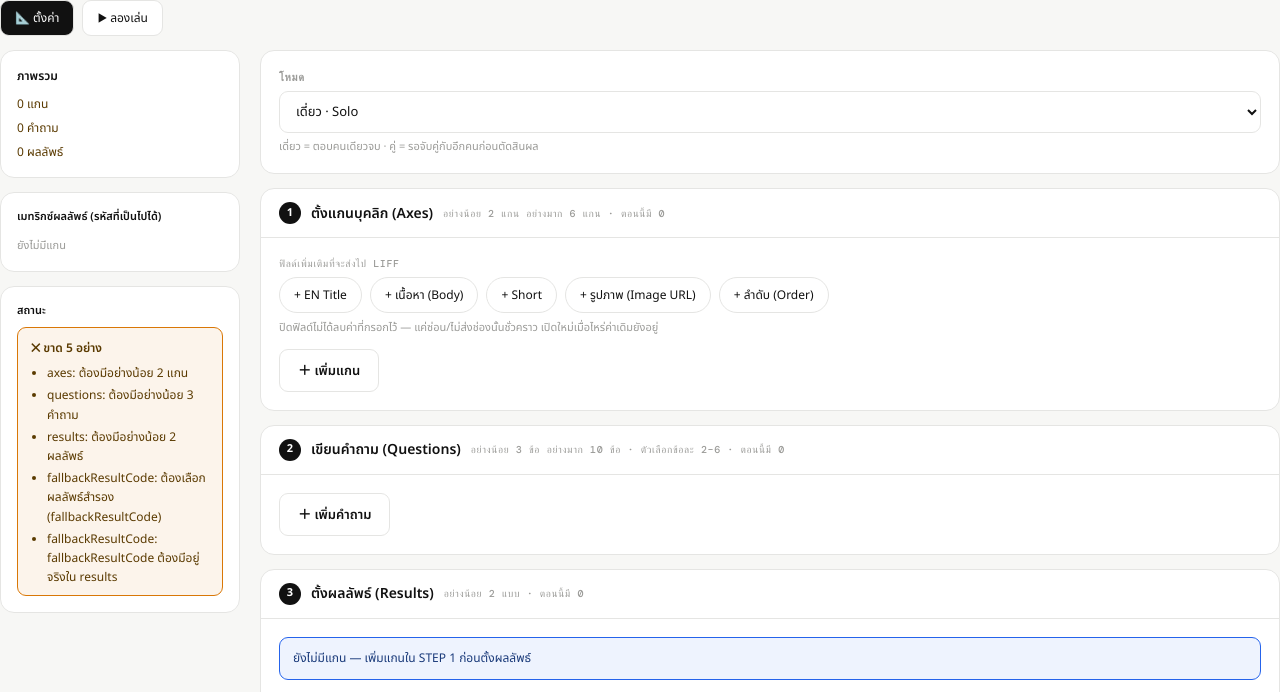
Test: โหมด ลองเล่น (Play) — ยังเป็น stub › สลับไปโหมดลองเล่น ซ่อนฟอร์มตั้งค่า และบอกตรงๆ ว่ายังไม่พร้อมใช้งาน
What coordinates should you click on to do the following:
click the button "▶ ลองเล่น"
I would click on:
 (123, 18)
Its box is [82,0,163,36].
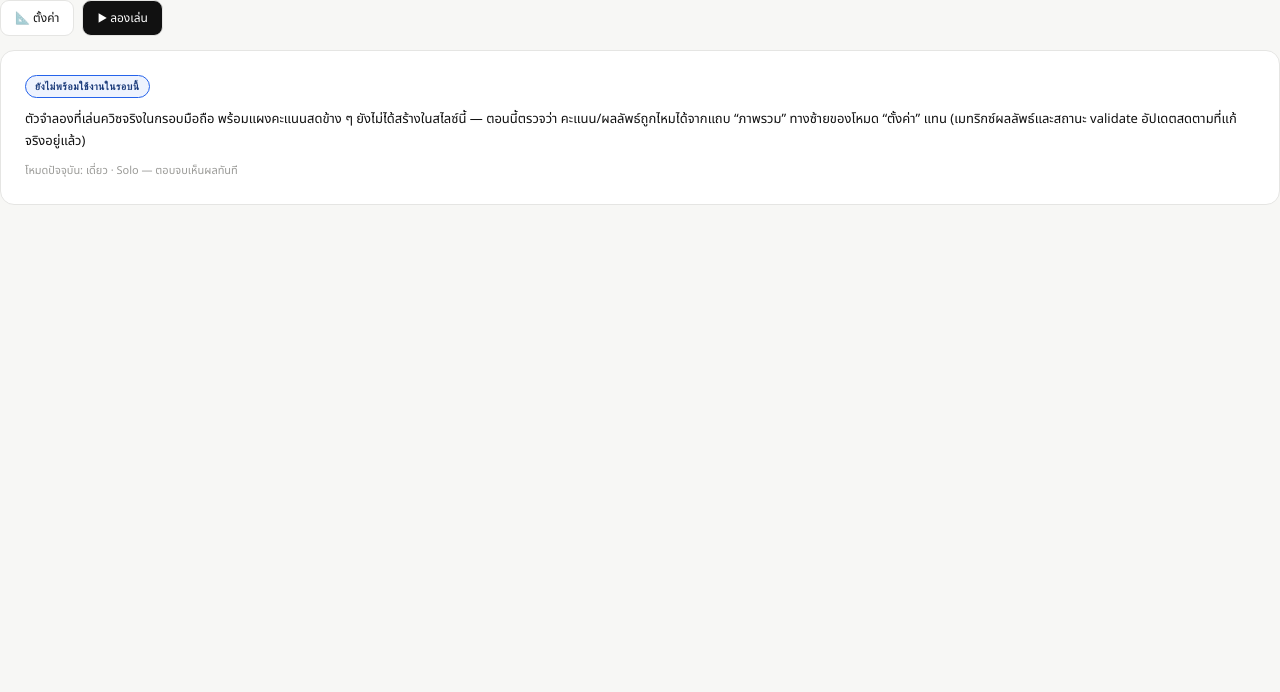
Result: the text "ยังไม่พร้อมใช้งานในรอบนี้" is shown at [25,75,150,98]
Result: the button "＋ เพิ่มแกน" is gone
